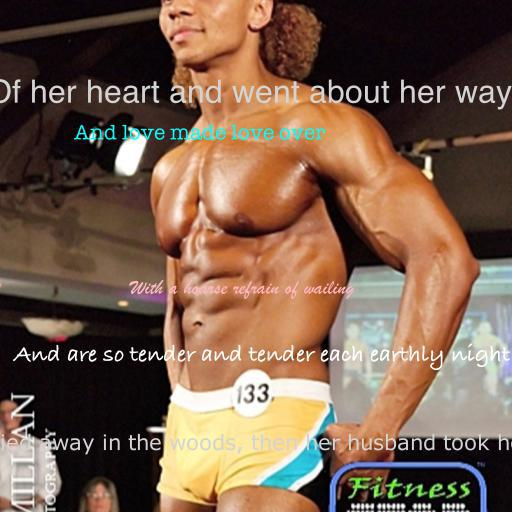American Typewriter: (73, 124, 325, 140)
Apple Chancery: (0, 79, 512, 110)
Bradley Hand: (14, 343, 510, 371)
Brush Script MT: (130, 279, 354, 300)
Verdana: (0, 433, 512, 455)
